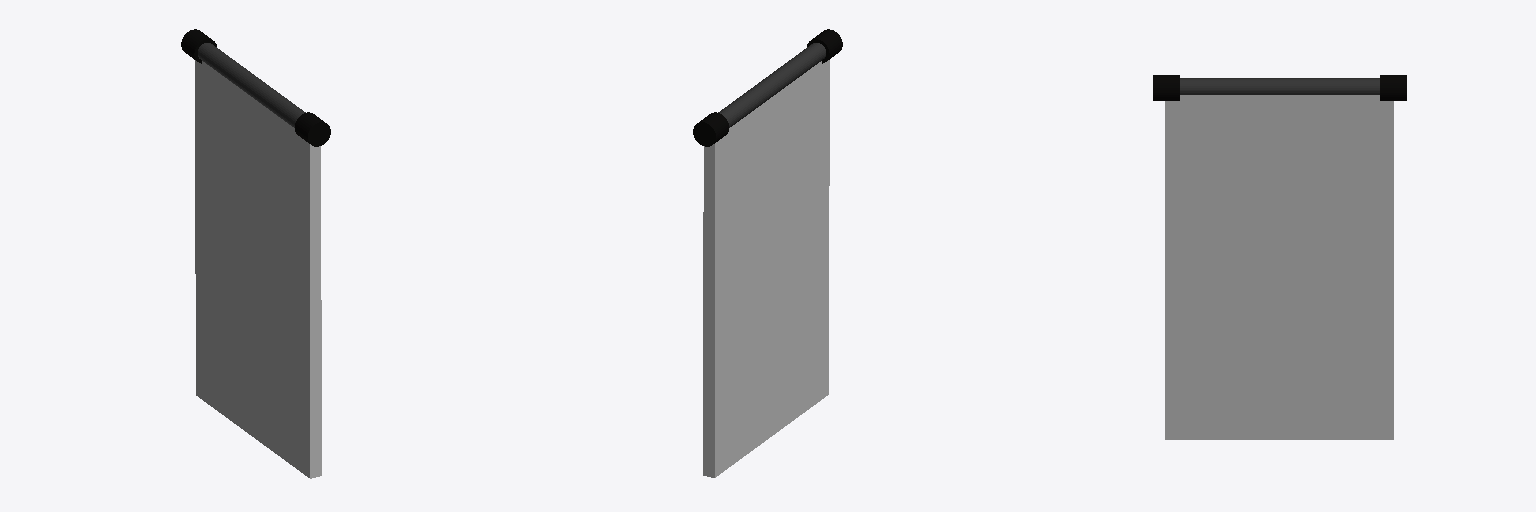
Rendered from movable.obj.
3 views of the same model, side by side, from view 1: azimuth 30°, elevation 25°; view 2: azimuth 150°, elevation 25°; view 3: azimuth 270°, elevation 25° (orthographic).
Parts seen in each view (by area): view 1: movable; view 2: movable; view 3: movable.
Boxes of the visible parts, x1=… form: movable: x1=181, y1=29, x2=330, y2=478; movable: x1=693, y1=29, x2=842, y2=477; movable: x1=1153, y1=75, x2=1406, y2=439.
Size of the model in its own units: 0.2973 by 4.46 by 2.84.